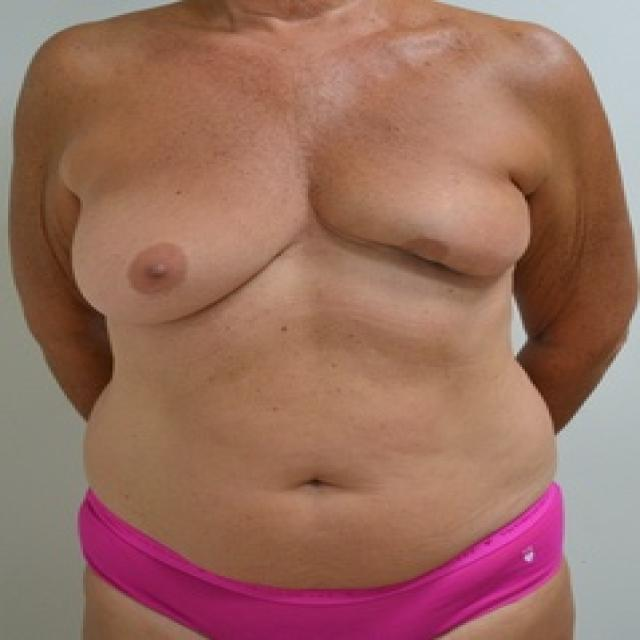Seno herido: (309, 112, 543, 340)
Seno ileso: (58, 112, 301, 340)
